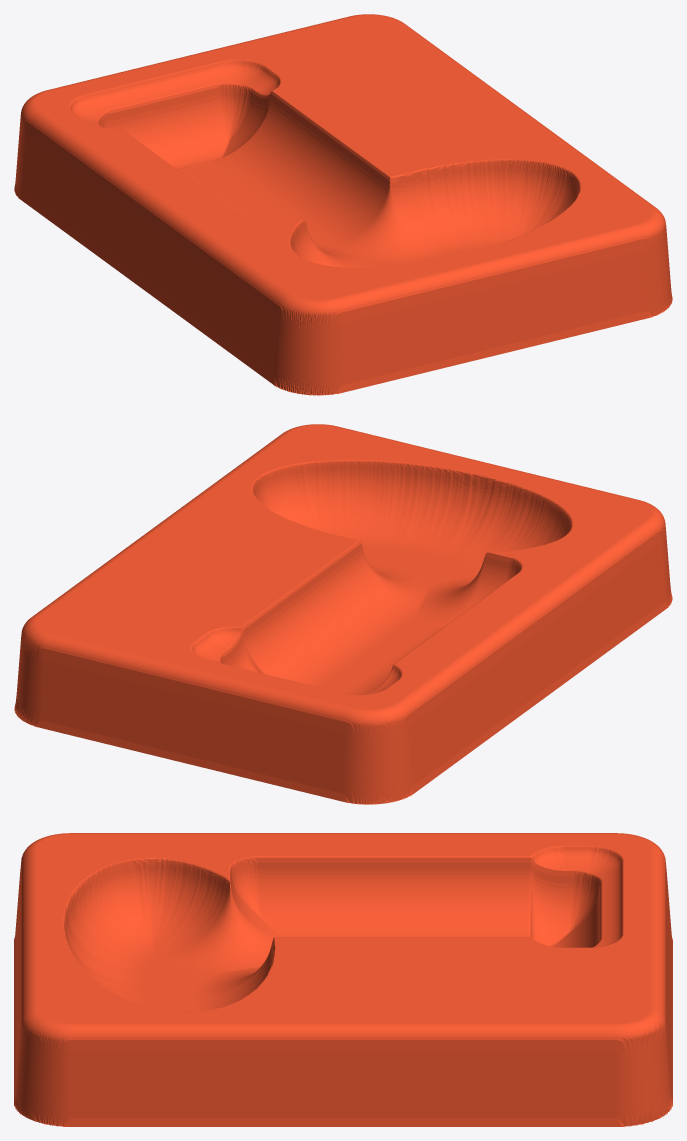
Rendered from mold.glb.
The picture shows the model from 3 angles, top to bottom: view 1: azimuth 30°, elevation 25°; view 2: azimuth 150°, elevation 25°; view 3: azimuth 270°, elevation 25°; orthographic projection. The views are drawn at different scales.
Visible parts, largest first — view 1: geometry_0; view 2: geometry_0; view 3: geometry_0.
Boxes of the visible parts, x1,y1,x2,y2 form: geometry_0: [14, 14, 672, 395]; geometry_0: [14, 424, 672, 804]; geometry_0: [14, 833, 672, 1126].
Bounding box in the file's own units: 0.0784 × 0.0165 × 0.105.
